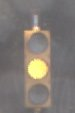Yellow: (21, 18, 57, 113)
